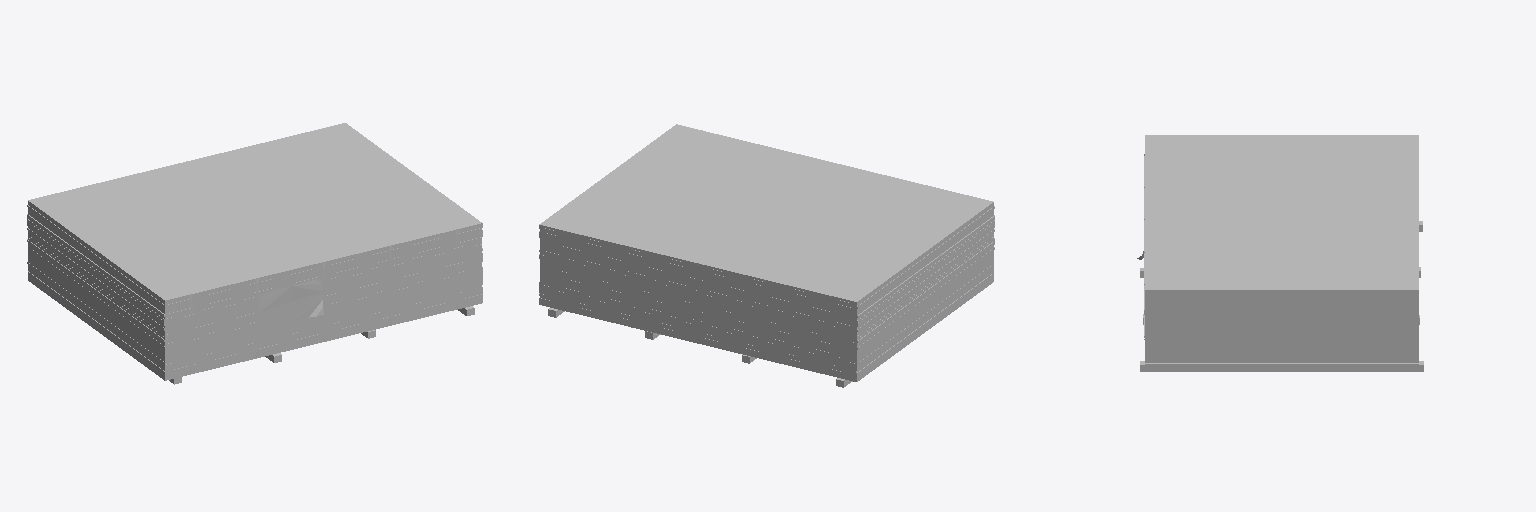
The model's file is PalletPlywoodNew_GameReady.obj.
3 renders of one model, left to right at view 1: azimuth 30°, elevation 25°; view 2: azimuth 150°, elevation 25°; view 3: azimuth 270°, elevation 25°, orthographic.
Visible parts, largest first — view 1: PalletPlywoodNew_GameReady; view 2: PalletPlywoodNew_GameReady; view 3: PalletPlywoodNew_GameReady.
Part boxes in pixels (left/top/right/bottom): PalletPlywoodNew_GameReady: left=27, top=123, right=482, bottom=384; PalletPlywoodNew_GameReady: left=539, top=124, right=994, bottom=387; PalletPlywoodNew_GameReady: left=1137, top=135, right=1423, bottom=371.
Bounding box in the file's own units: 2.01 × 0.5242 × 1.57.